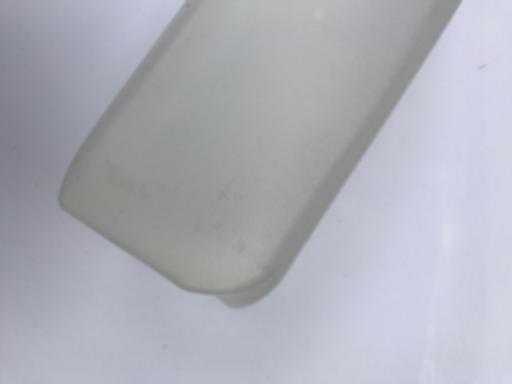HDPE: (58, 0, 469, 309)
plastic: (58, 0, 469, 309)
